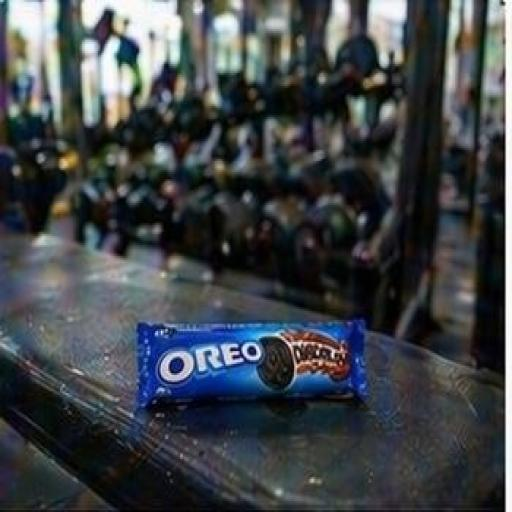oreo: (112, 252, 403, 456)
